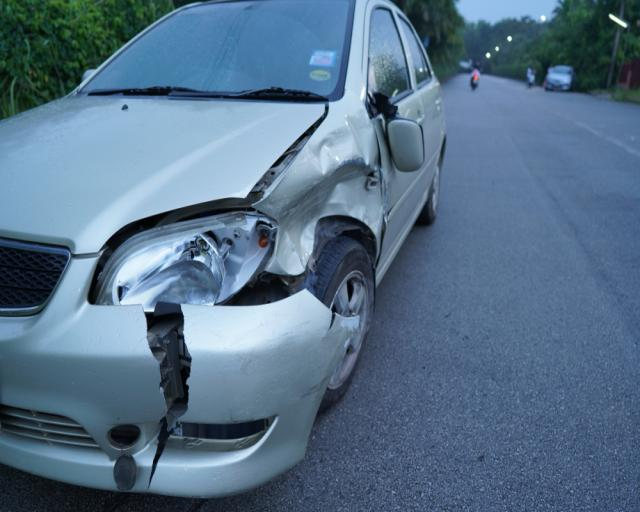crack: (141, 302, 193, 493), (327, 310, 336, 332)
dent: (277, 109, 380, 270)
lamp broken: (98, 212, 271, 305)
scratch: (300, 354, 331, 405)
